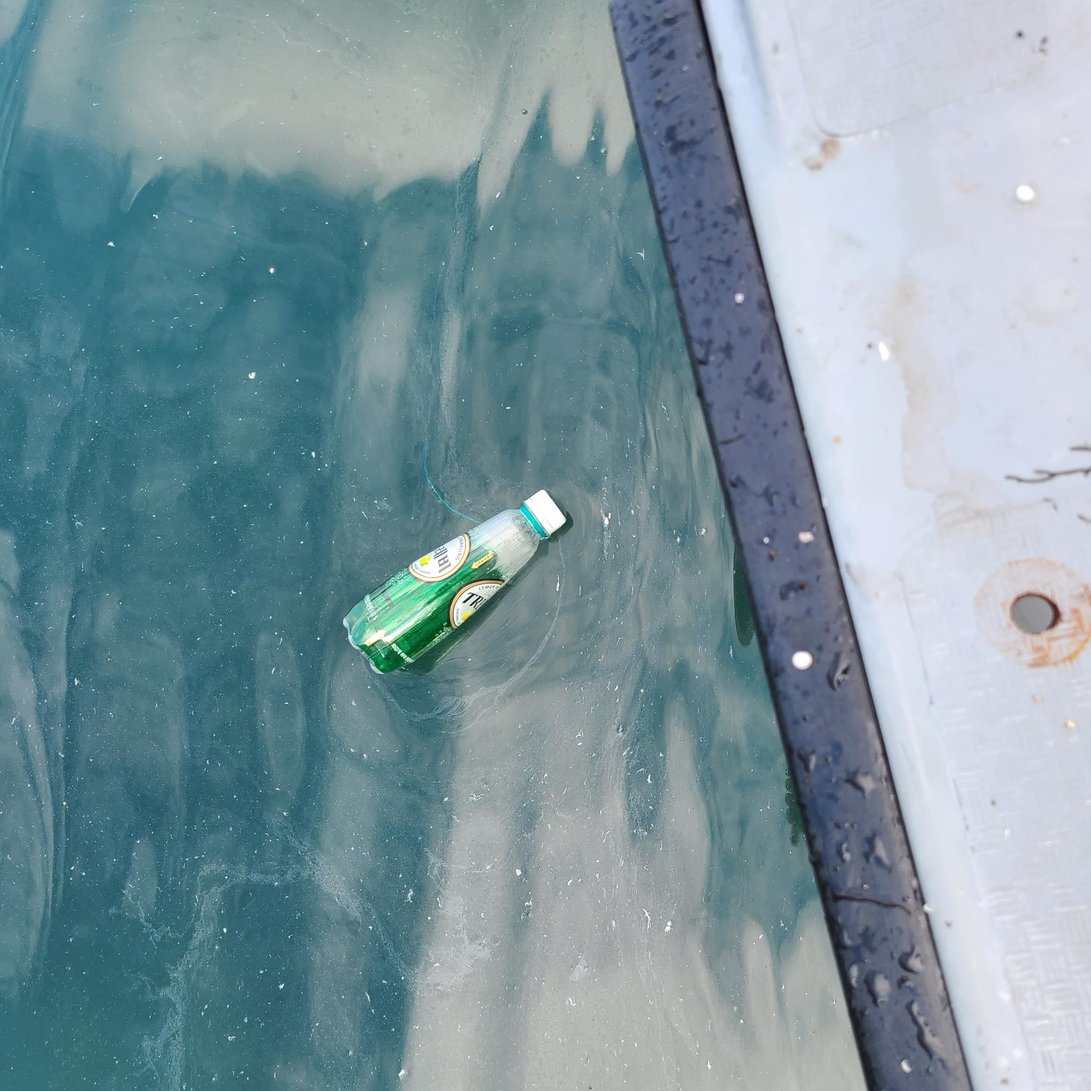sampah_terapung: (343, 490, 567, 675)
